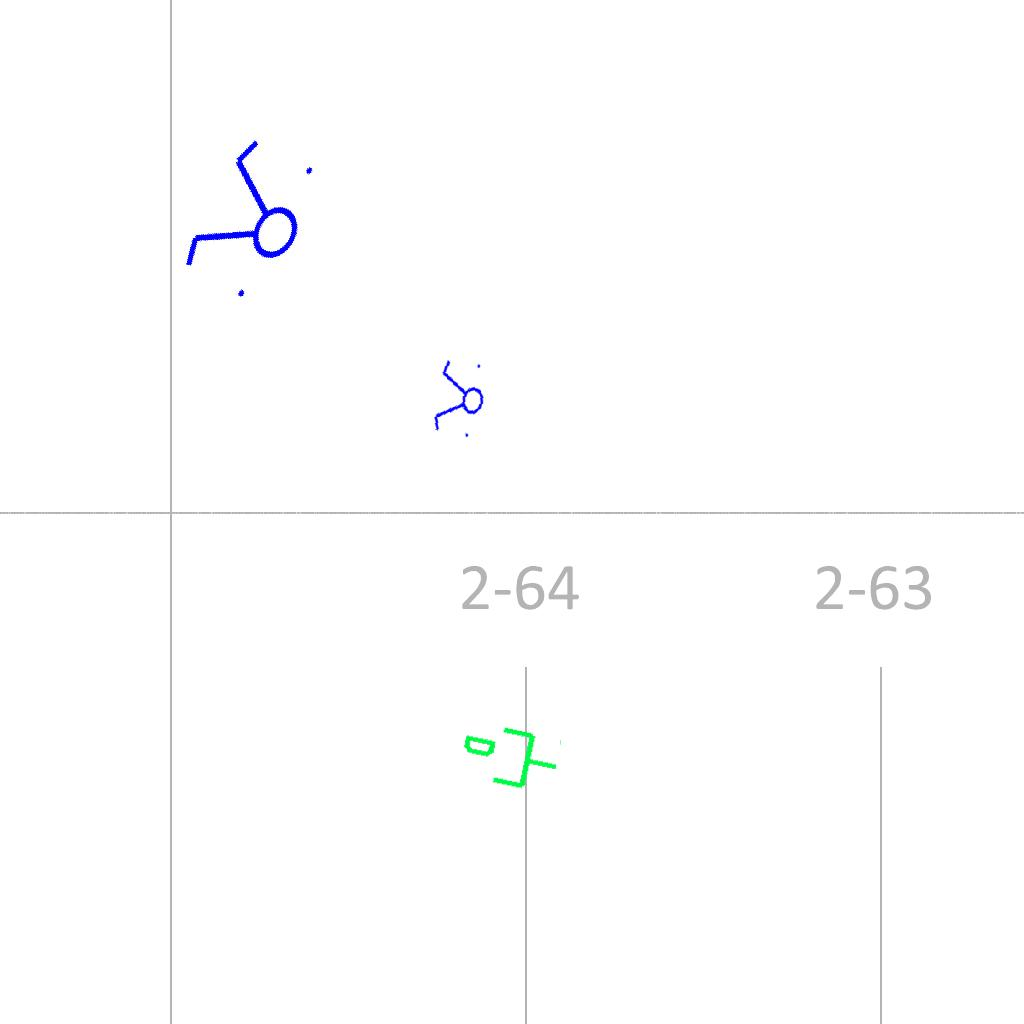Datenanschluss_einfach: (453, 714, 566, 804)
Serienschalter: (169, 124, 335, 318), (429, 353, 491, 445)
